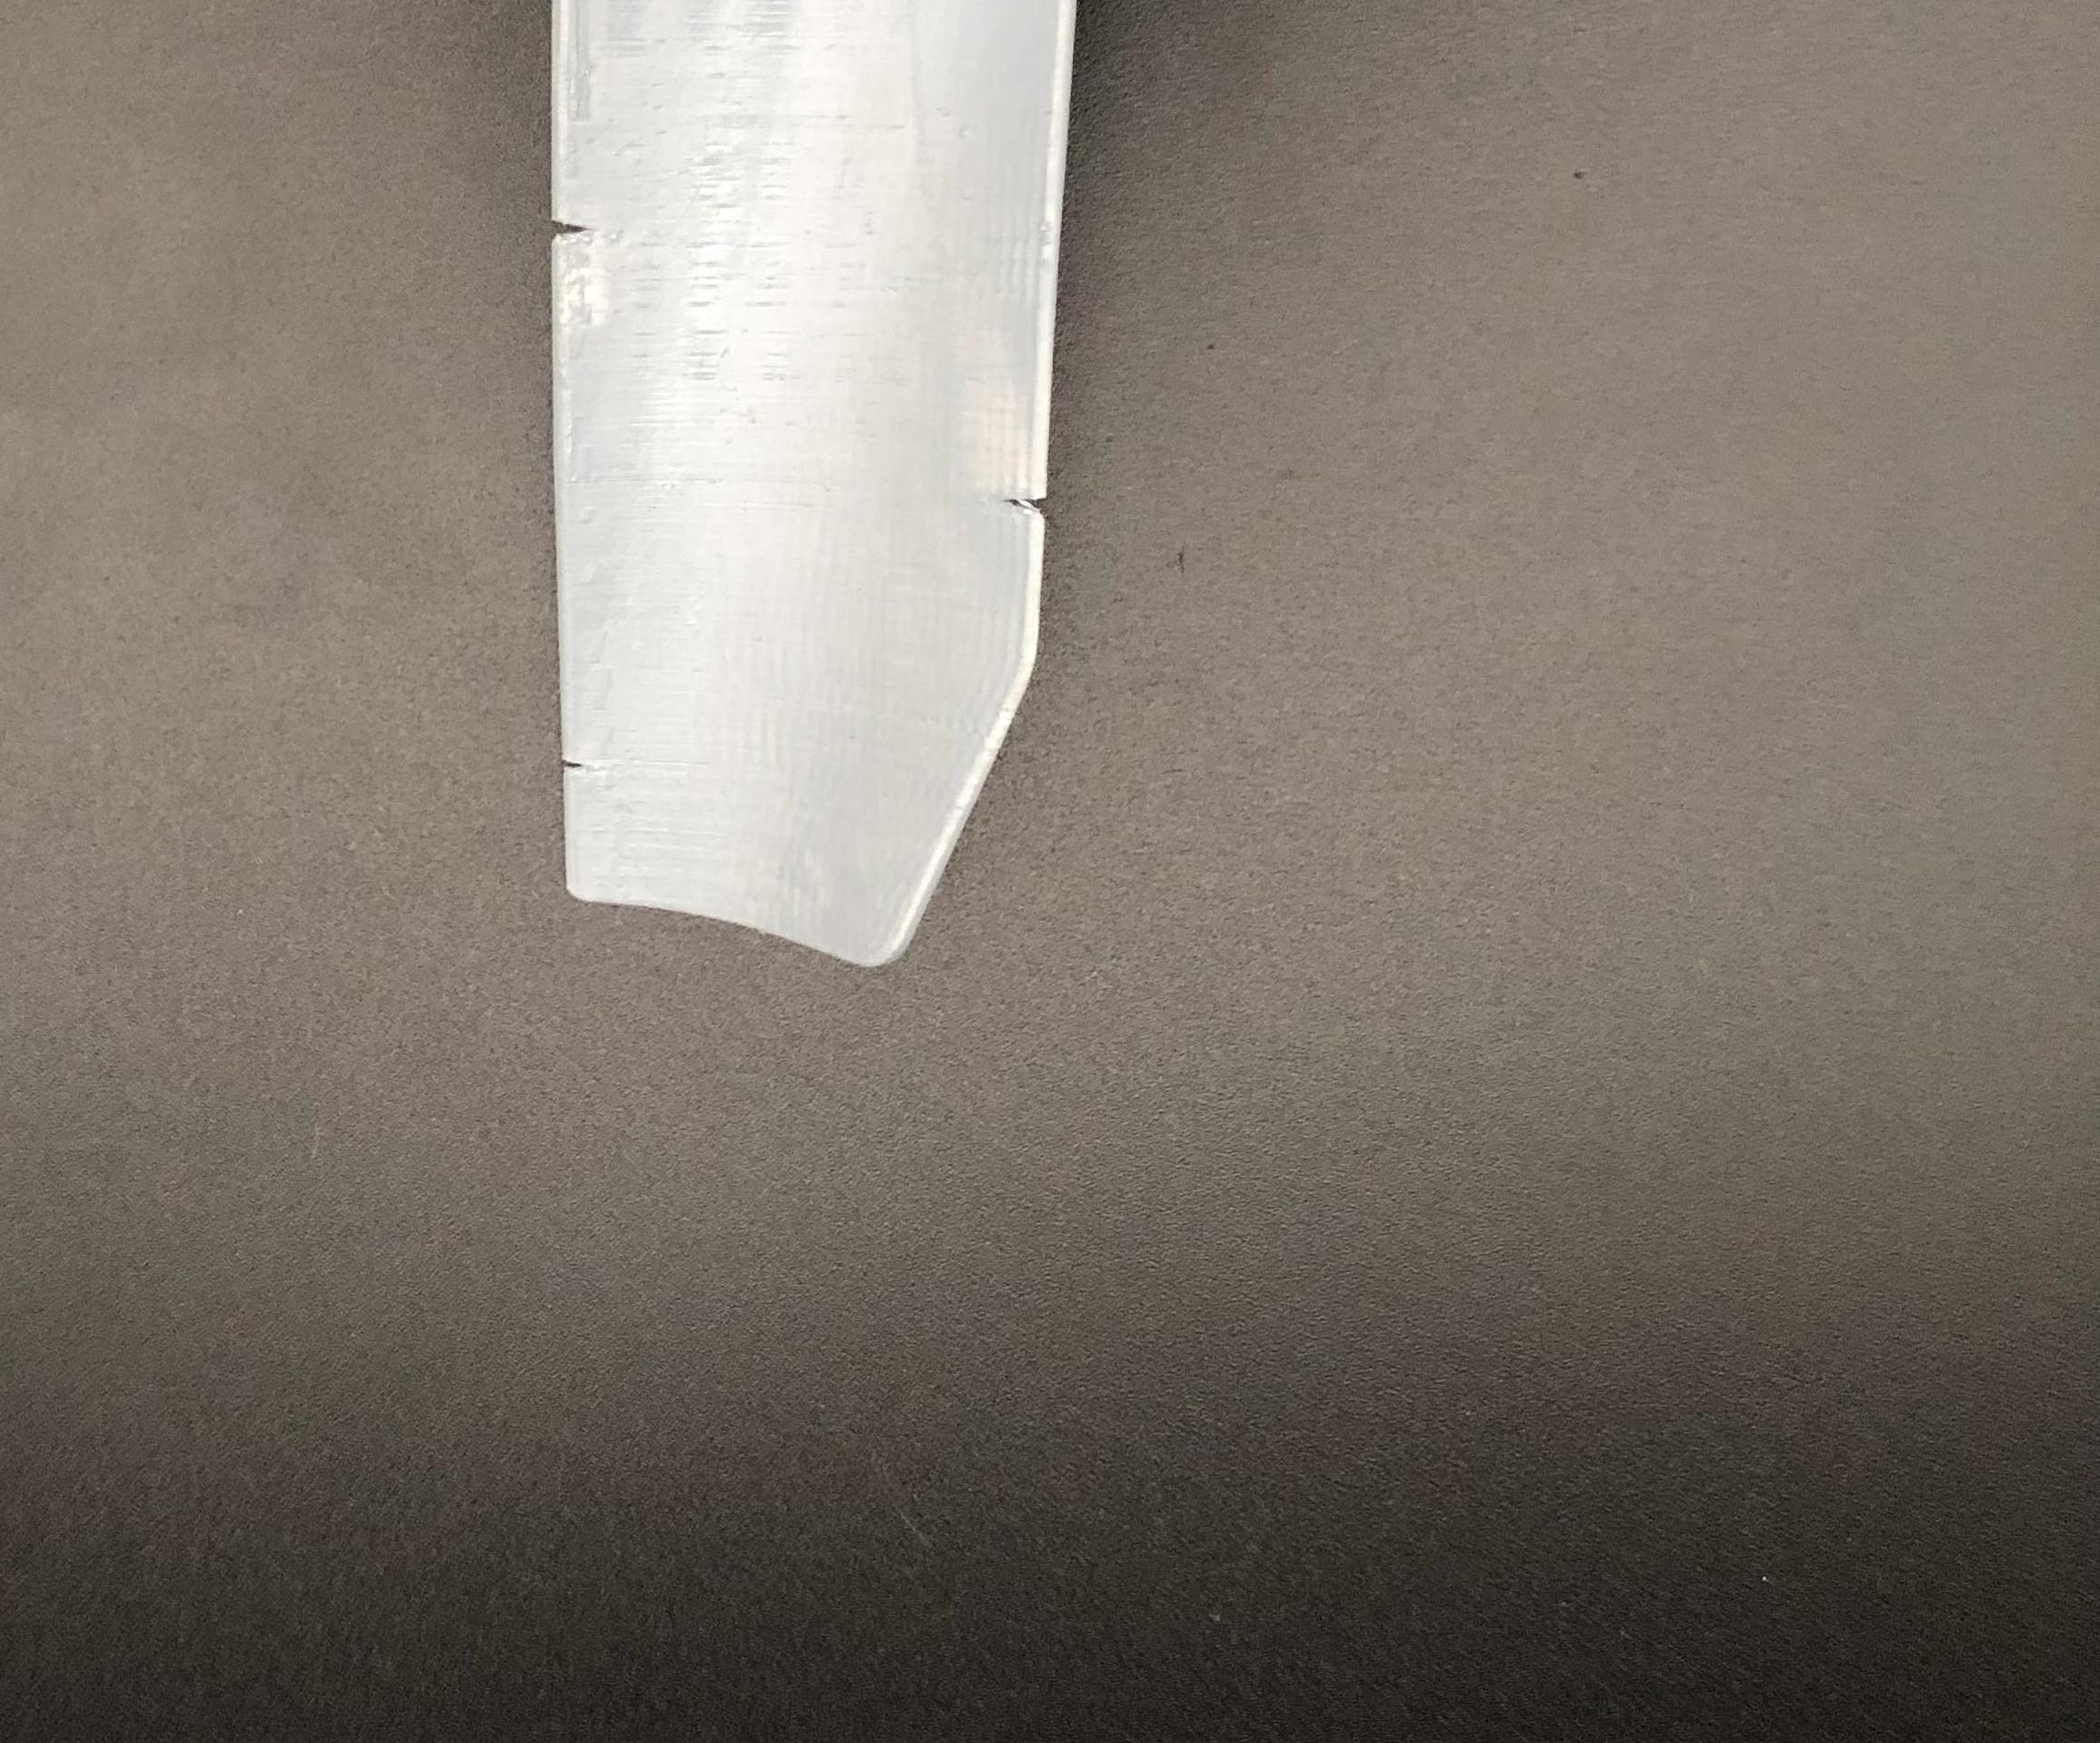groove: (996, 487, 1048, 532), (558, 747, 609, 783), (548, 211, 595, 246)
